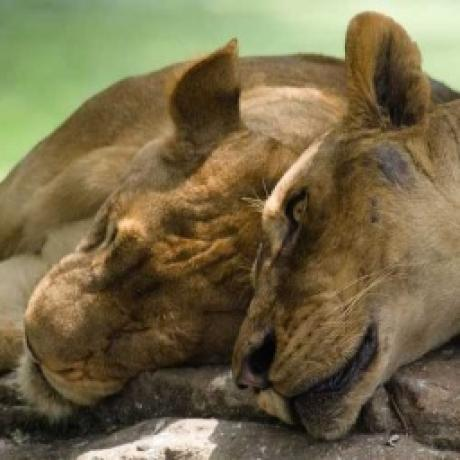Lion: (0, 35, 297, 420), (231, 8, 460, 447)
